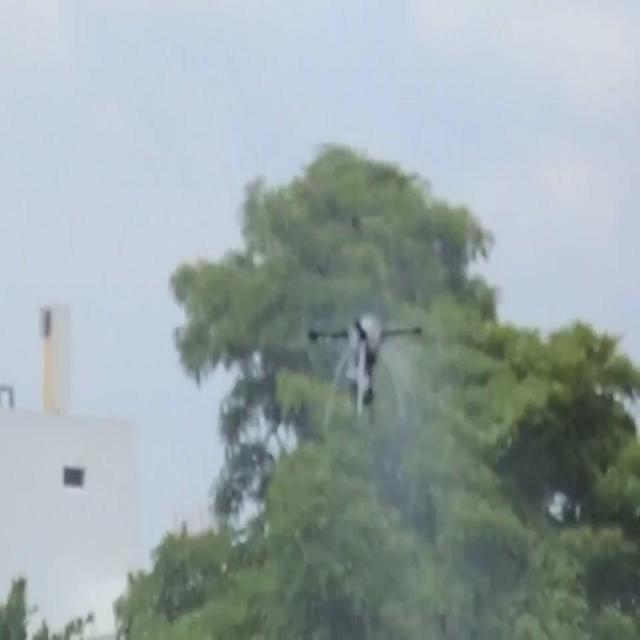UAV: (306, 314, 422, 423)
